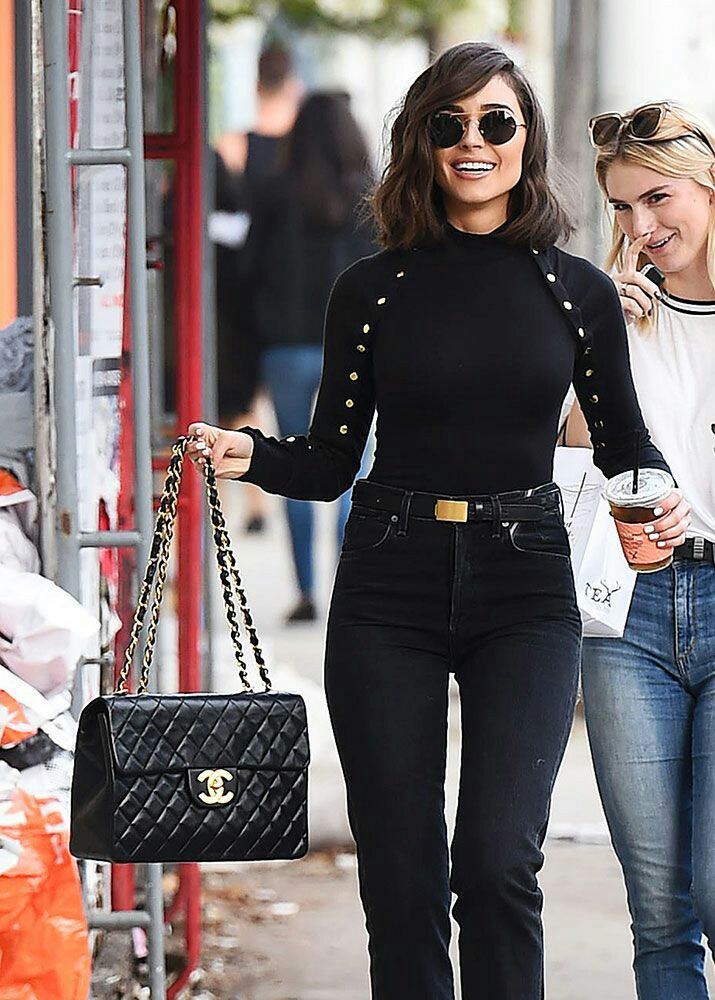channel: (81, 689, 335, 877), (208, 463, 264, 684), (184, 772, 247, 814)
